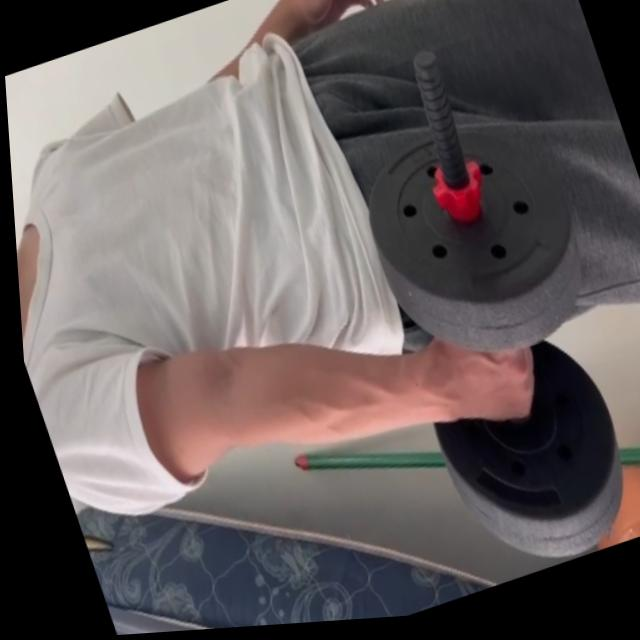hammer: (335, 90, 640, 595)
